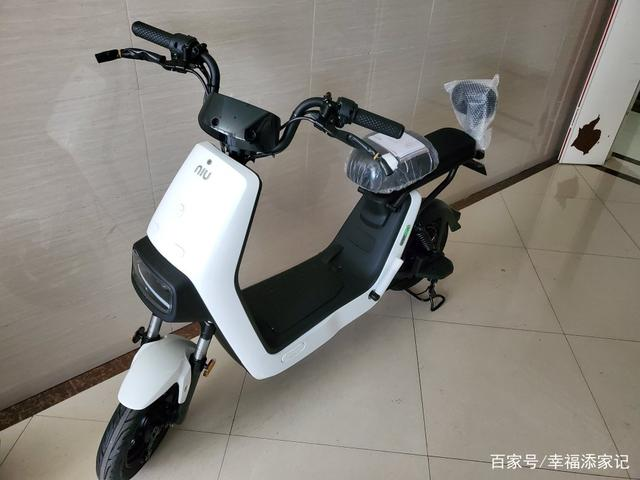电动车: (76, 15, 499, 480)
